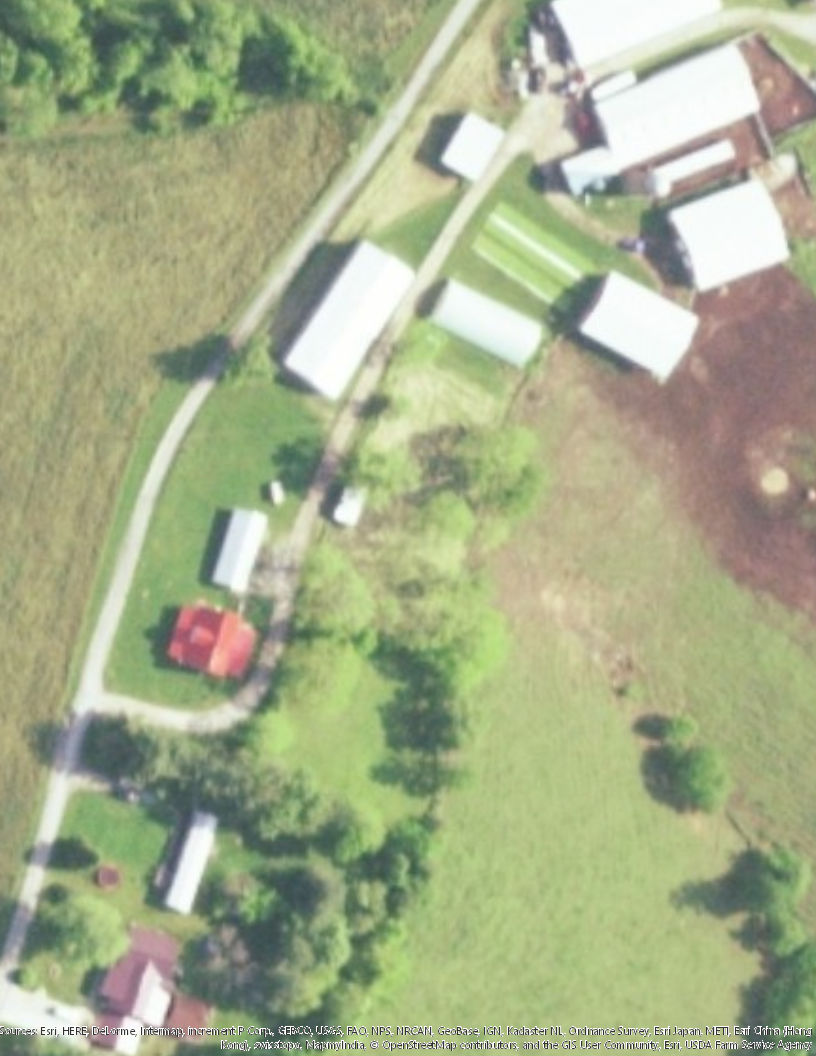cafo: (554, 37, 778, 195), (271, 231, 423, 409), (573, 261, 714, 395), (534, 1, 758, 81), (663, 170, 795, 296), (428, 266, 553, 376)
